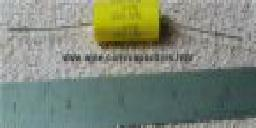Electrolytic-Capacitor: (20, 1, 243, 49)
